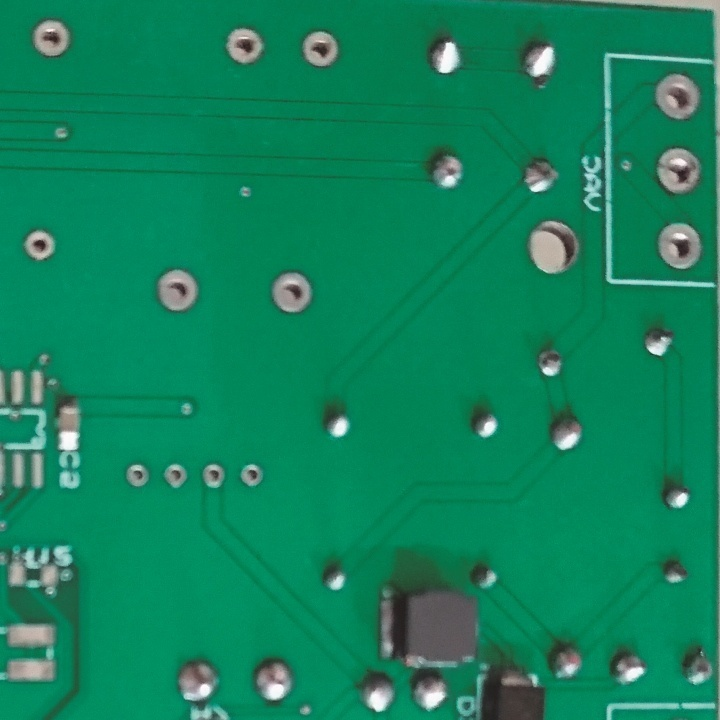F: (656, 219, 703, 275), (655, 146, 702, 197), (268, 266, 314, 317), (656, 72, 700, 123), (156, 269, 202, 313), (30, 18, 70, 60), (302, 27, 339, 70), (227, 26, 263, 67), (21, 230, 61, 263), (238, 460, 263, 493), (199, 460, 227, 488), (162, 461, 187, 490), (127, 462, 151, 490)
